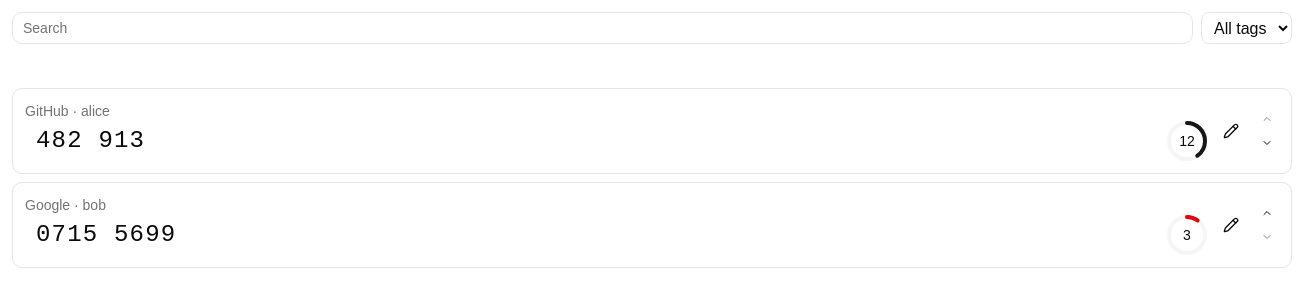
Test case: EntryList › shows a failed move and keeps the list
This screenshot has width=1304, height=285.
Click the button named "Move Google · bob up" at point(1267, 213), box top-left (1255, 201), bottom-right (1279, 225)
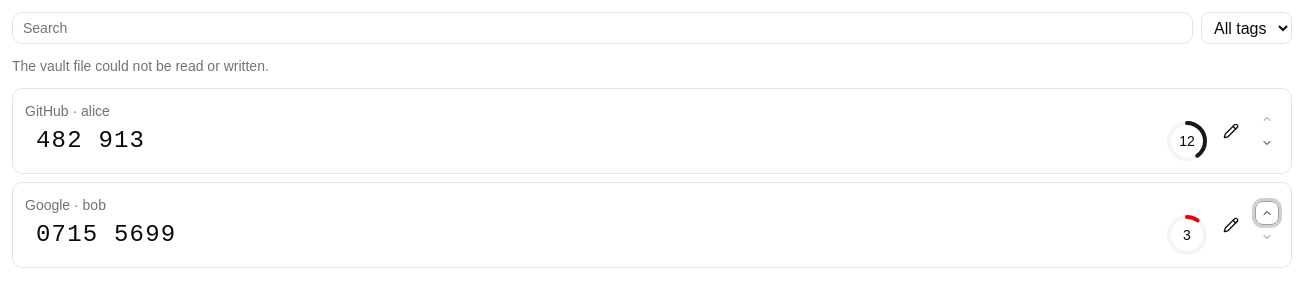
Check: the text "GitHub · alice" is shown, box top-left (25, 103), bottom-right (110, 119)
Check: the message shows "could not be read or written", box top-left (12, 58), bottom-right (269, 74)
